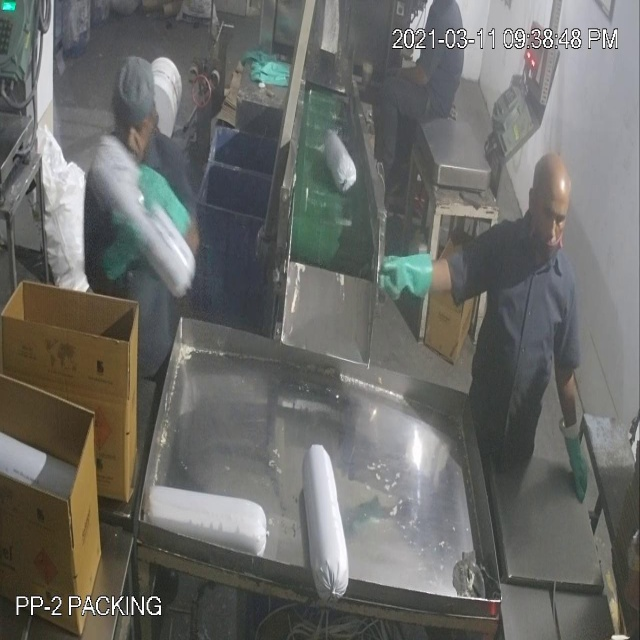Guantes: (374, 236, 439, 316), (558, 412, 599, 524)
